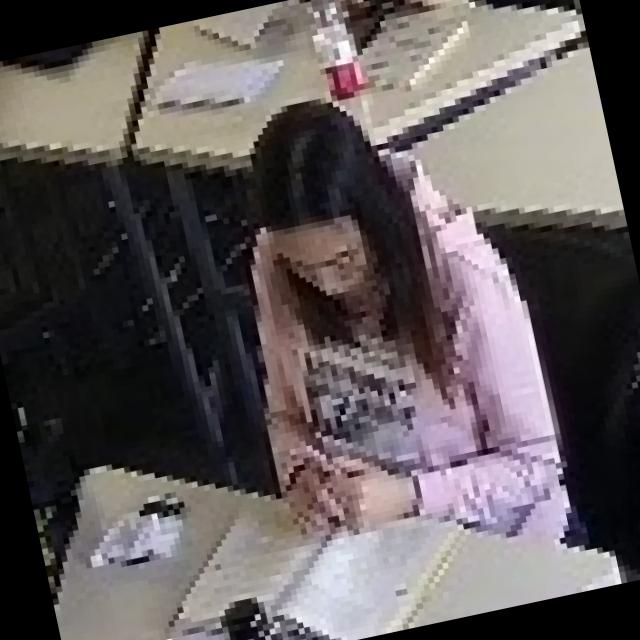write: (198, 59, 590, 607)
